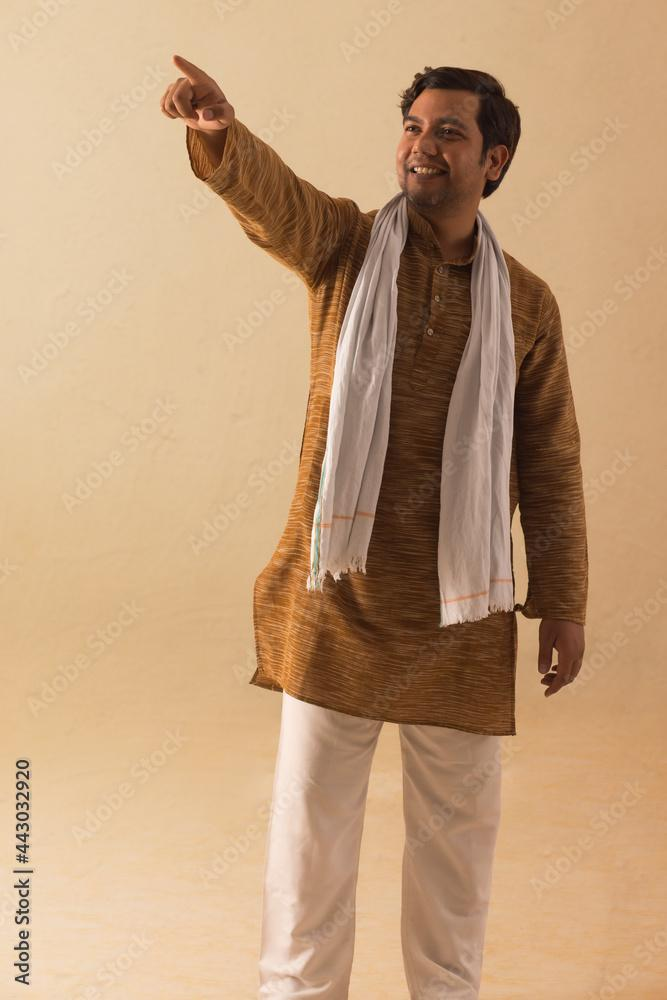Human: (151, 28, 595, 1000)
